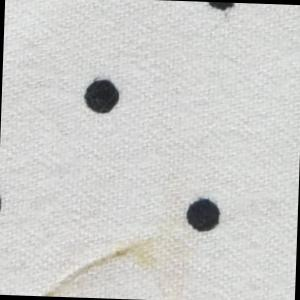Oil Stain: (42, 212, 204, 300)
